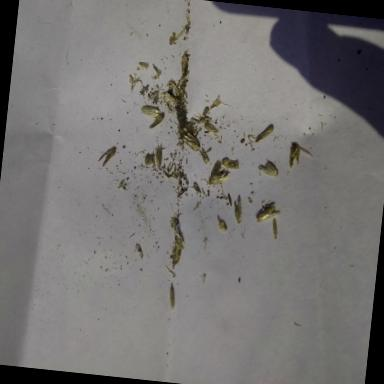pbw: (288, 141, 314, 171), (208, 158, 230, 186), (255, 204, 278, 225), (254, 122, 274, 146), (181, 132, 201, 152), (170, 236, 182, 269), (258, 160, 280, 177), (232, 198, 243, 224), (153, 144, 164, 168), (140, 106, 159, 118), (168, 286, 177, 310), (221, 159, 240, 170), (180, 53, 188, 79), (204, 123, 220, 133), (164, 92, 176, 104), (138, 62, 149, 68)
